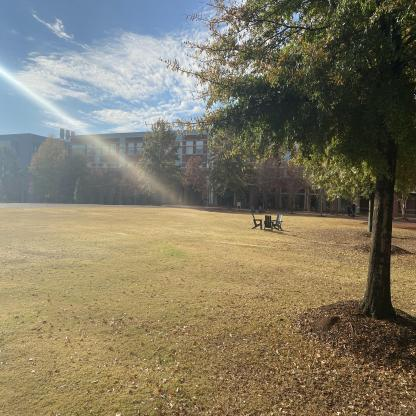EB-1: (61, 113, 415, 222)
